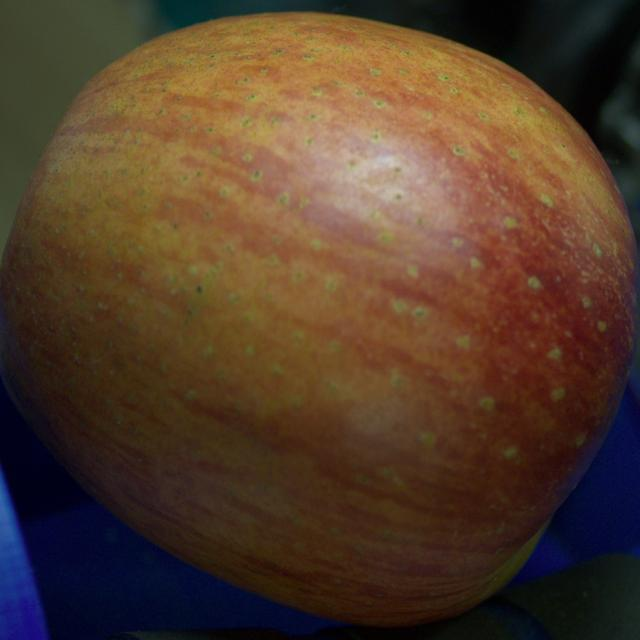apple: (0, 14, 639, 626)
